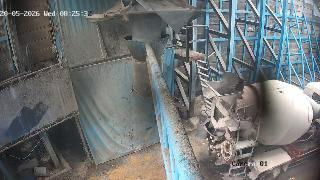cement_mixer_truck: (199, 72, 320, 180)
swing_chute: (124, 36, 171, 100)
